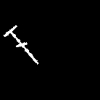double_crochet: (4, 26, 37, 63)
